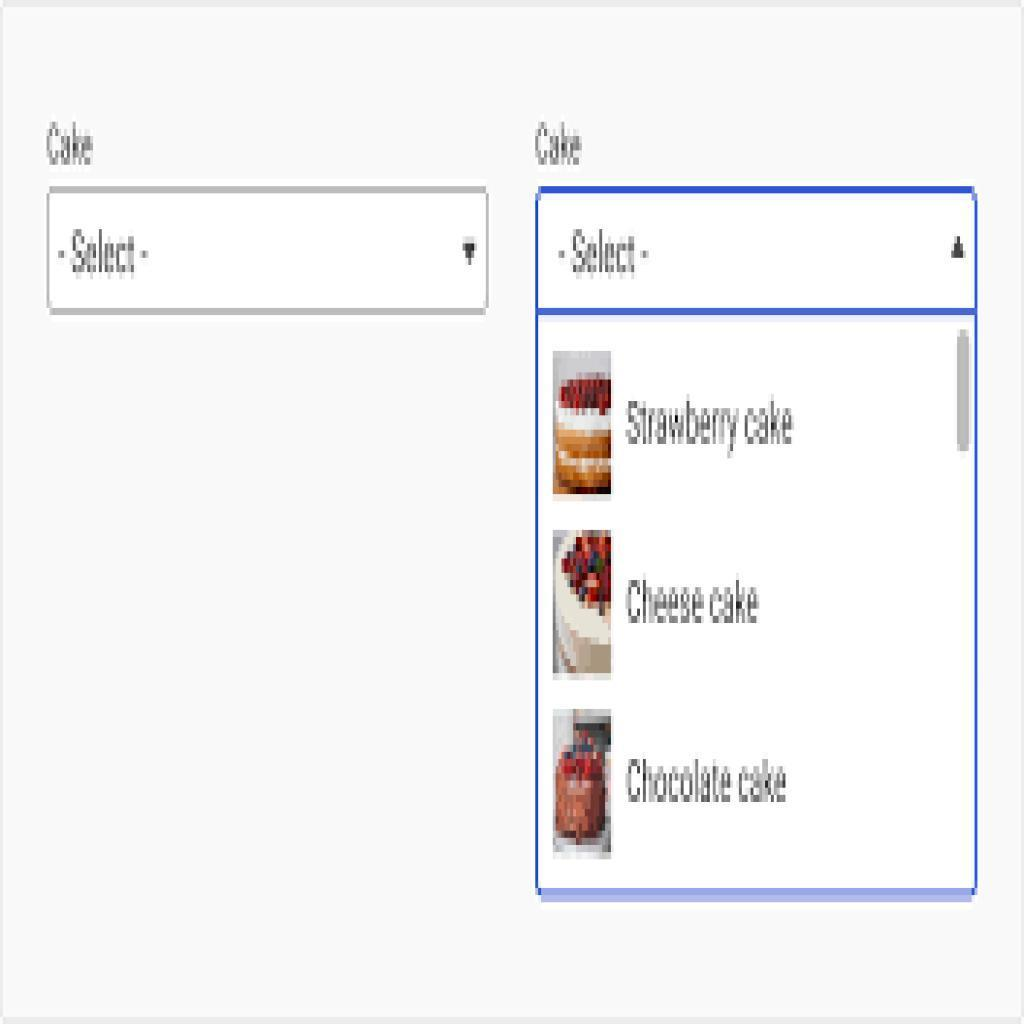dropdown: (50, 190, 490, 315), (537, 188, 977, 312)
